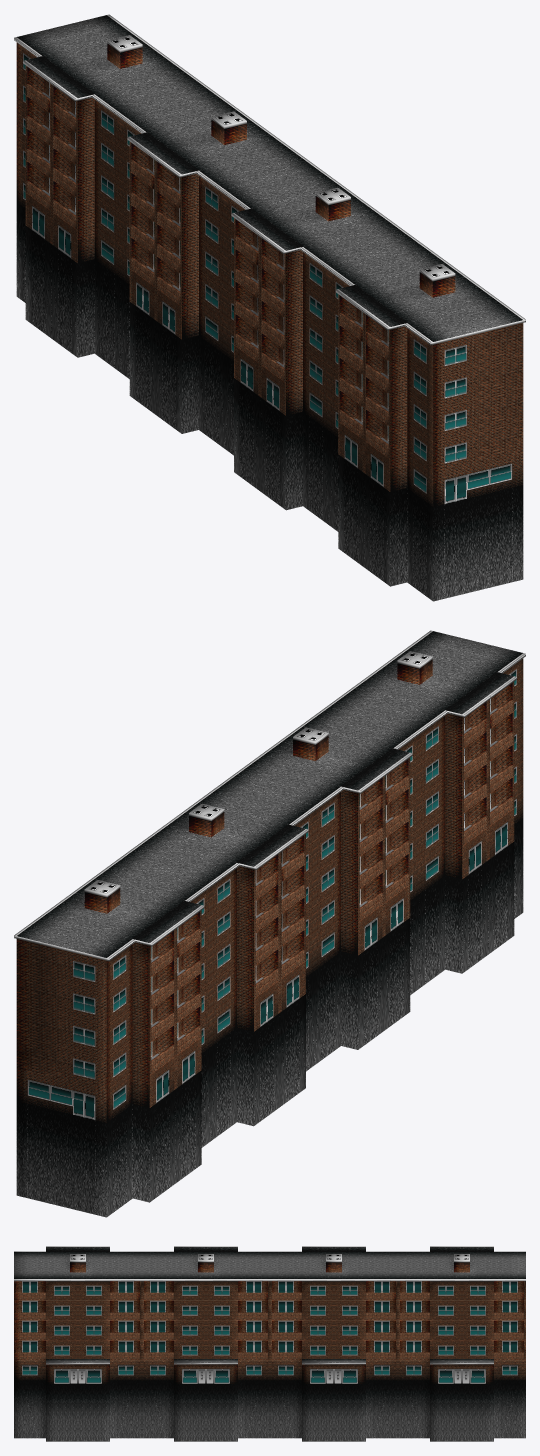
The model's file is apartement_mod1_3a.fbx.
3 views of the same model, one above another, from view 1: azimuth 30°, elevation 25°; view 2: azimuth 150°, elevation 25°; view 3: azimuth 270°, elevation 25° (orthographic). The views are drawn at different scales.
Visible parts, largest first — view 1: apartement_mod1_3a; view 2: apartement_mod1_3a; view 3: apartement_mod1_3a.
Boxes of the visible parts, box(x1,y1,x2,y2) form: apartement_mod1_3a: box(14, 14, 525, 601); apartement_mod1_3a: box(14, 630, 525, 1217); apartement_mod1_3a: box(14, 1246, 525, 1441).
Size of the model in its own units: 1231 by 2652 by 7200.
